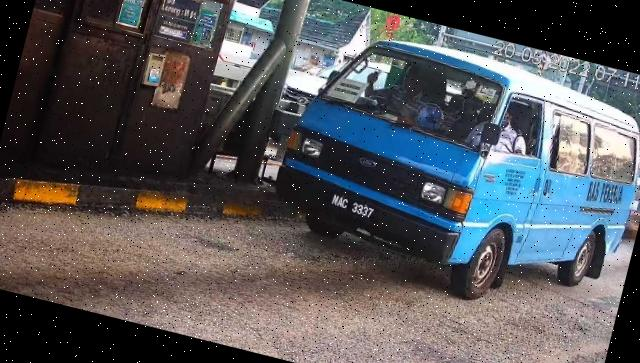License_Plate: (327, 191, 381, 227)
van: (262, 16, 640, 333)
